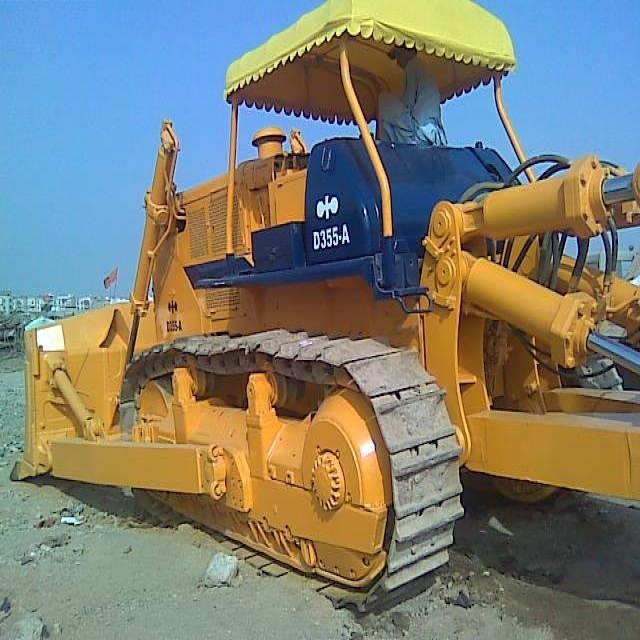Bulldozer: (8, 4, 639, 605)
